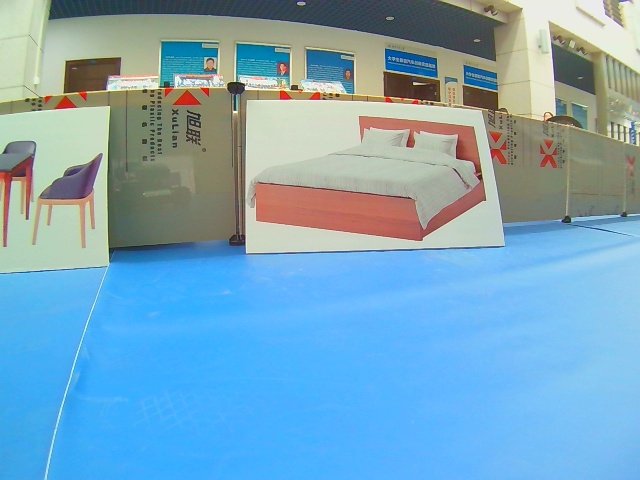bed: (244, 97, 507, 256)
